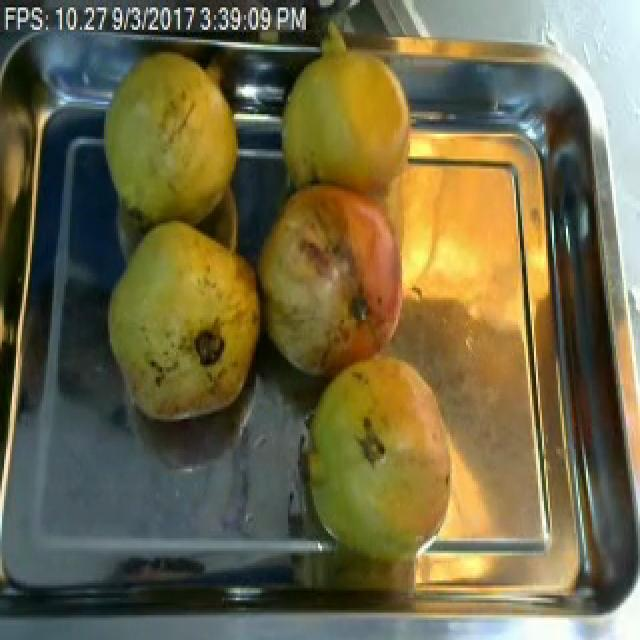fruit: (290, 345, 466, 575), (96, 210, 272, 432), (252, 164, 412, 389), (96, 45, 248, 233), (272, 37, 422, 194)
